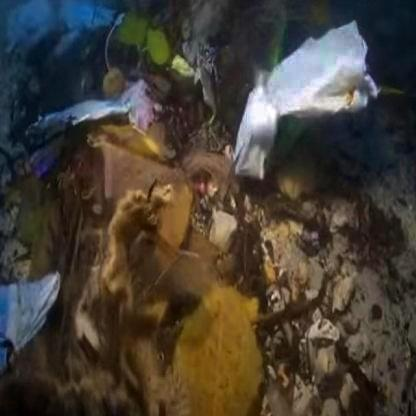plastic: (43, 59, 176, 167), (263, 38, 385, 148)
